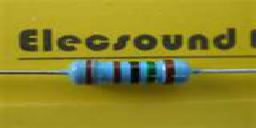Electrolytic-Capacitor: (8, 57, 256, 91)
